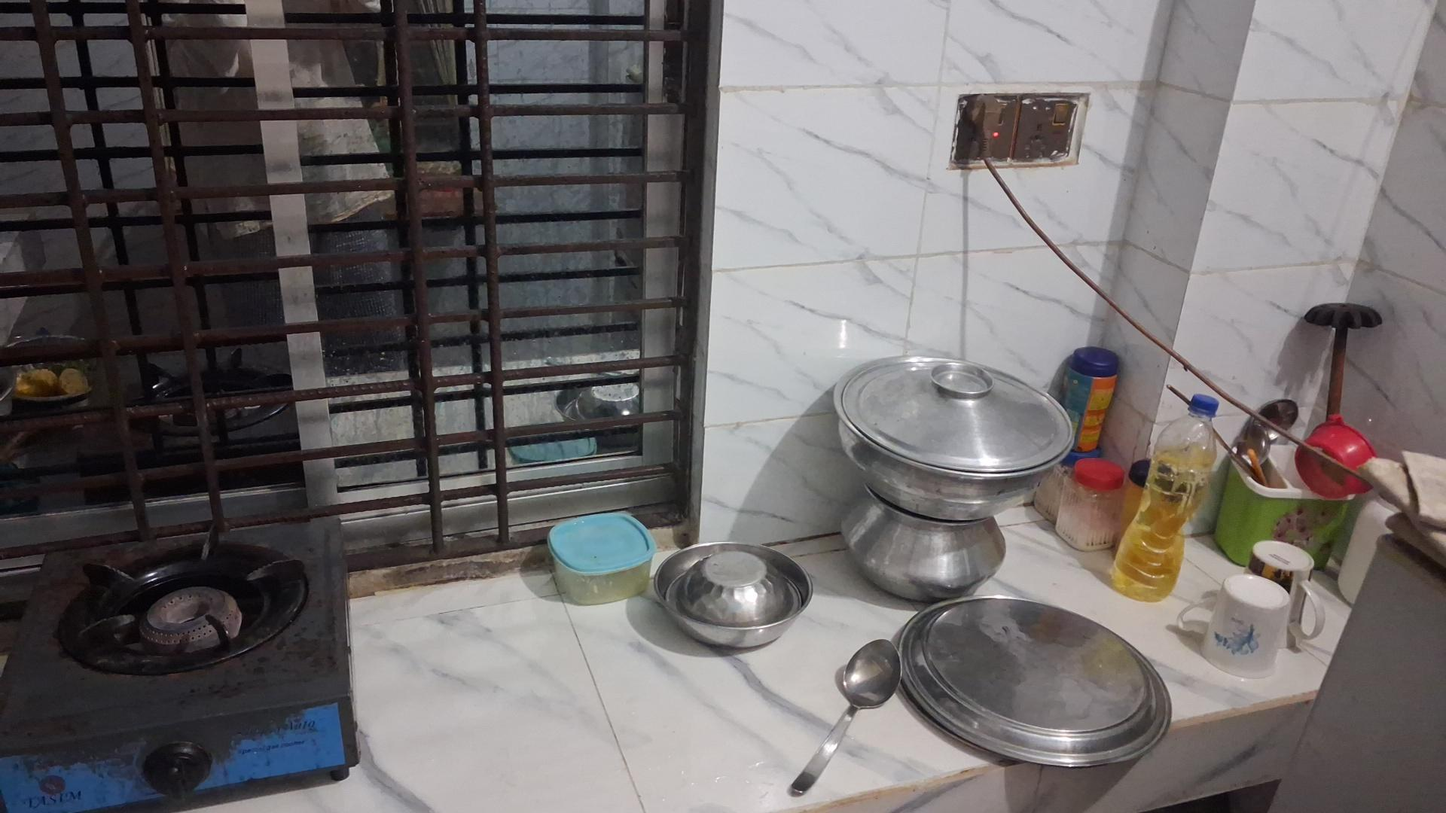Bottle: (1109, 393, 1223, 604)
Bowl: (651, 541, 813, 651)
Cup: (1201, 574, 1300, 681)
Jar: (546, 511, 656, 605), (1062, 344, 1124, 451), (1058, 462, 1114, 553)
Plate: (888, 595, 1171, 775)
Pot: (834, 355, 1072, 515), (841, 500, 1010, 600)
Spoon: (787, 639, 899, 796)
